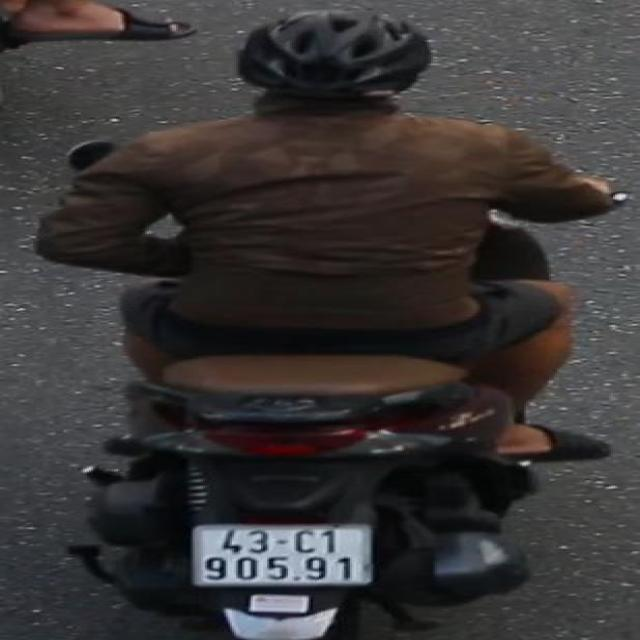LP: (175, 514, 382, 588)
helmet: (234, 3, 439, 122)
